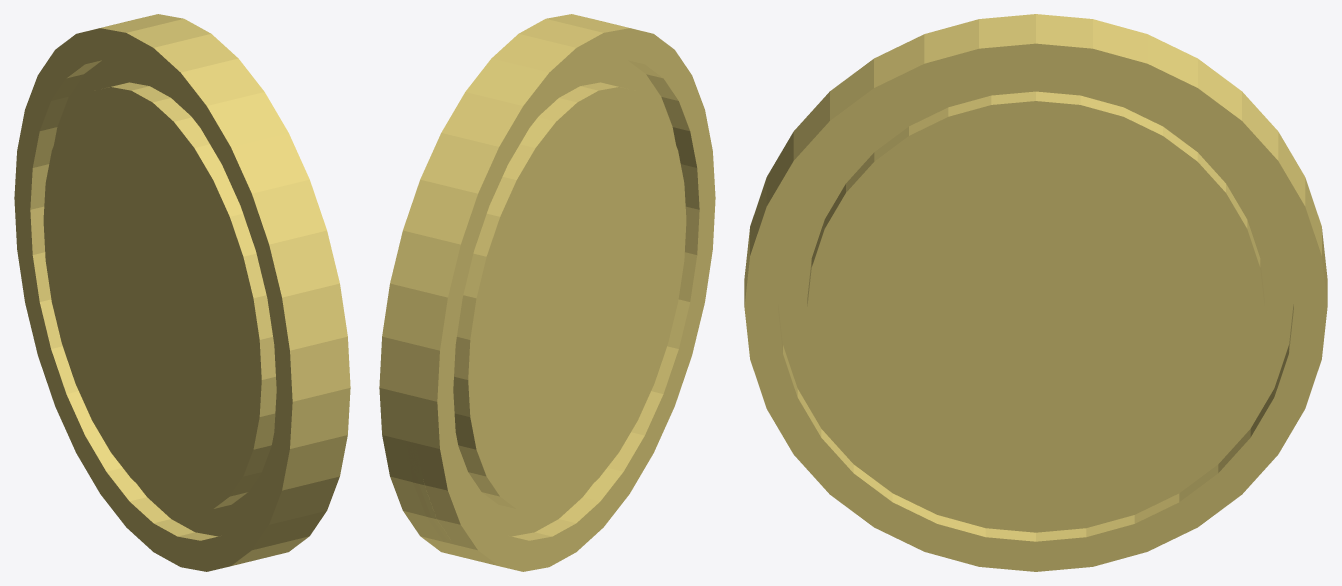
Rendered from coin.fbx.
3 views of the same model, side by side, from view 1: azimuth 30°, elevation 25°; view 2: azimuth 150°, elevation 25°; view 3: azimuth 270°, elevation 25° (orthographic). The views are drawn at different scales.
Parts seen in each view (by area): view 1: Cylinder; view 2: Cylinder; view 3: Cylinder.
Boxes of the visible parts, left/top/right/bottom form: Cylinder: left=14, top=14, right=350, bottom=571; Cylinder: left=379, top=14, right=715, bottom=571; Cylinder: left=744, top=14, right=1327, bottom=571.
Size of the model in its own units: 200 by 24.77 by 200.
